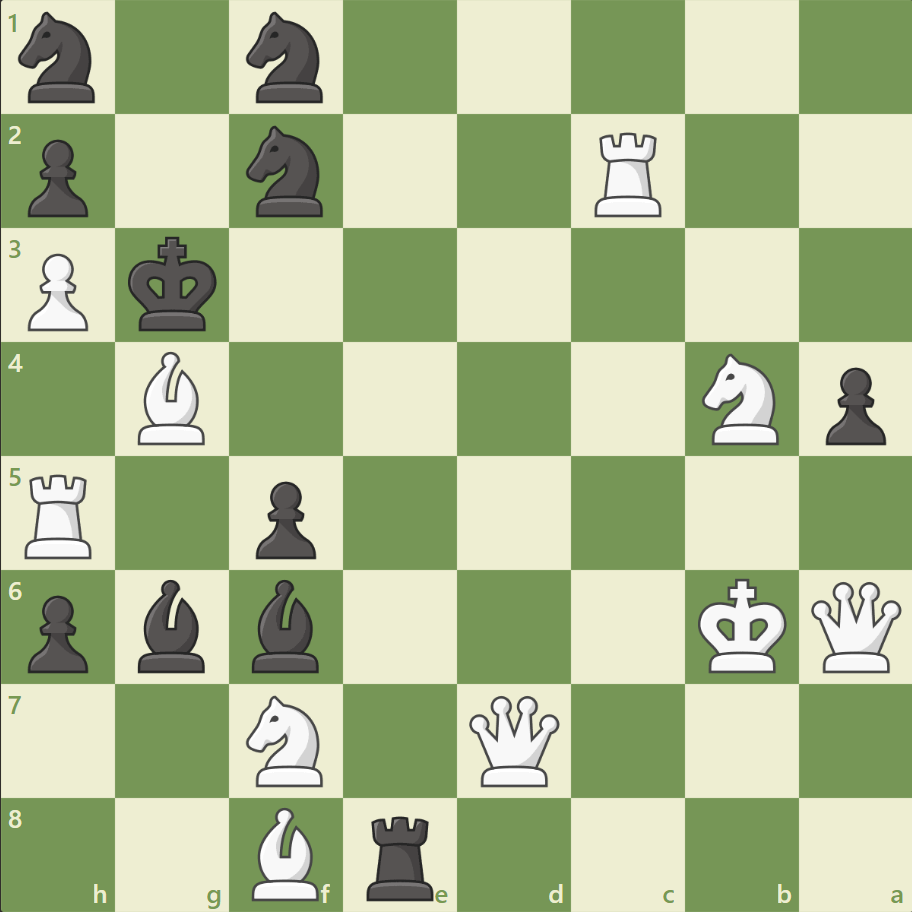B: (244, 801, 328, 904), (131, 347, 215, 449)
K: (692, 571, 792, 679)
N: (238, 688, 335, 791), (692, 348, 789, 450)
P: (20, 246, 95, 337)
Q: (805, 576, 904, 676), (464, 690, 563, 789)
R: (19, 466, 102, 563), (587, 125, 670, 222)
b: (244, 574, 328, 676), (131, 574, 215, 676)
k: (124, 231, 224, 339)
n: (238, 7, 335, 110), (11, 7, 108, 110), (238, 121, 335, 223)
p: (20, 586, 95, 677), (247, 473, 322, 564), (20, 132, 95, 223), (815, 359, 889, 450)
r: (360, 806, 442, 904)
